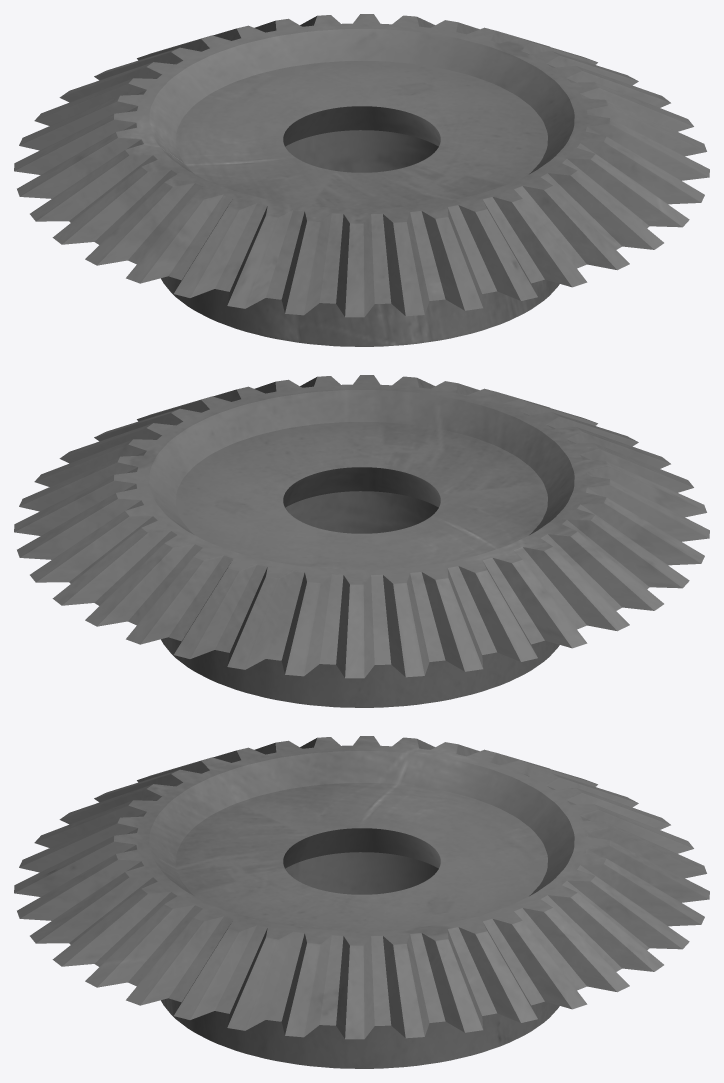
File: main_gear.glb
The picture shows the model from 3 angles, top to bottom: view 1: azimuth 30°, elevation 25°; view 2: azimuth 150°, elevation 25°; view 3: azimuth 270°, elevation 25°; orthographic projection.
Parts seen in each view (by area): view 1: pGear1; view 2: pGear1; view 3: pGear1.
Boxes of the visible parts, x1,y1,x2,y2 form: pGear1: (14,14,709,346); pGear1: (14,375,709,707); pGear1: (14,736,709,1068).
Bounding box in the file's own units: 2.48 × 0.5561 × 2.48.
1 material, 1 textured.
